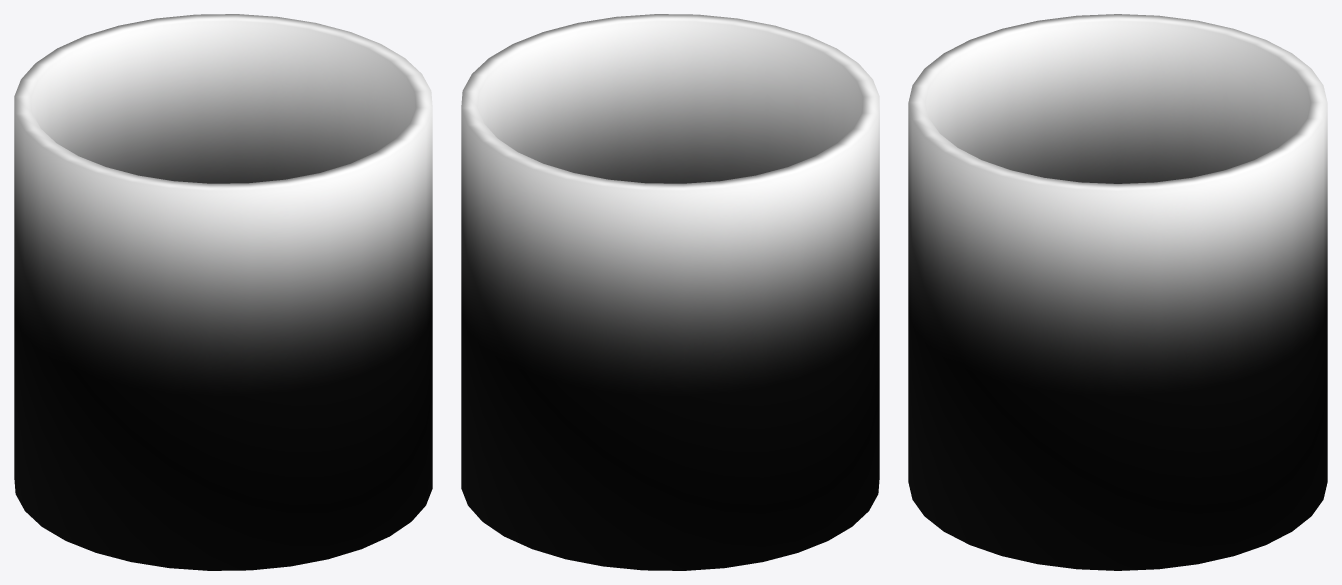
The model's file is holegradient (2).fbx.
3 views of the same model, side by side, from view 1: azimuth 30°, elevation 25°; view 2: azimuth 150°, elevation 25°; view 3: azimuth 270°, elevation 25° (orthographic).
Visible parts, largest first — view 1: Cylinder; view 2: Cylinder; view 3: Cylinder.
Boxes of the visible parts, x1,y1,x2,y2 form: Cylinder: [14, 14, 432, 570]; Cylinder: [461, 14, 879, 570]; Cylinder: [908, 14, 1327, 570].
Size of the model in its own units: 200 by 200 by 200.
